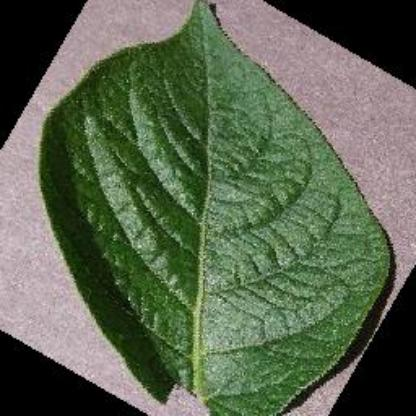Healthy-plant: (16, 0, 406, 416)
